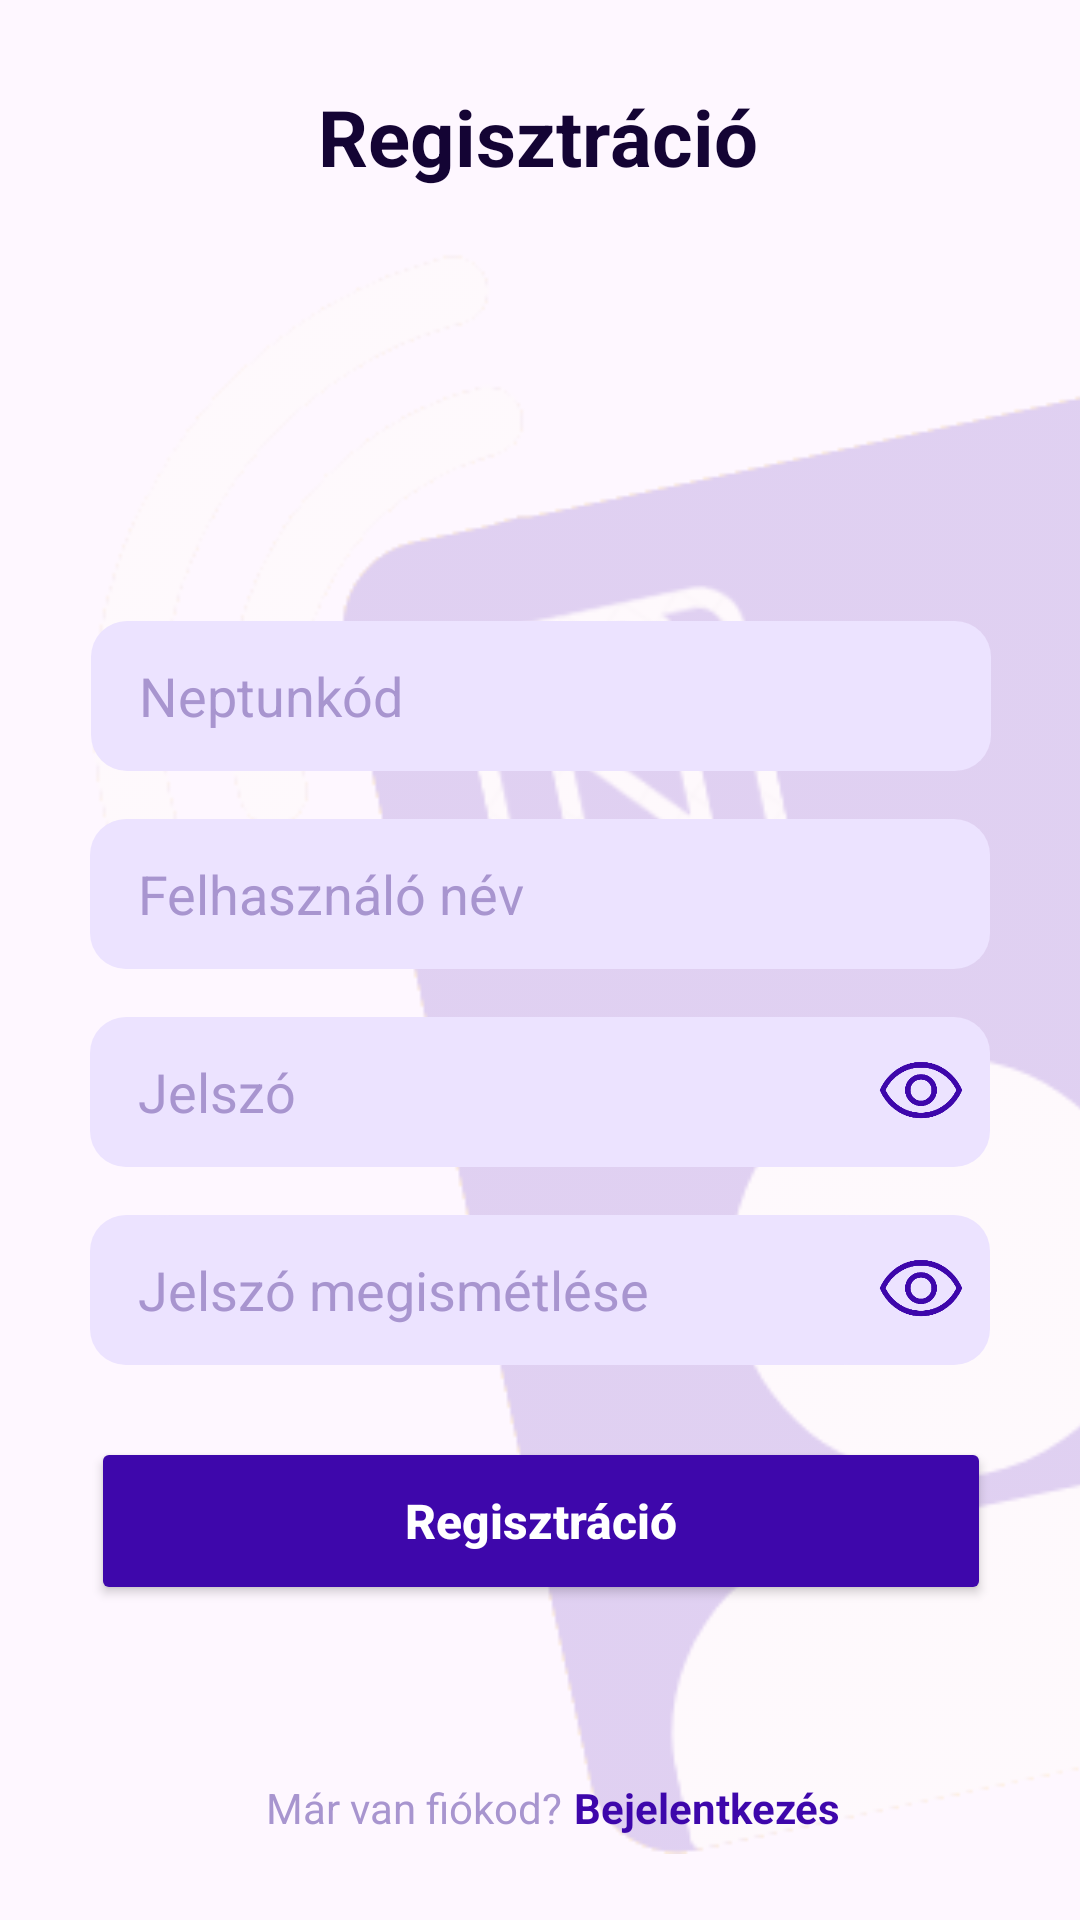

Icon bounding boxes for this 1080 x 1920 phone screenshot, format (x1, y1, x2, y2):
Toggle Password Visibility: (880, 1062, 962, 1118), (880, 1260, 962, 1316)
